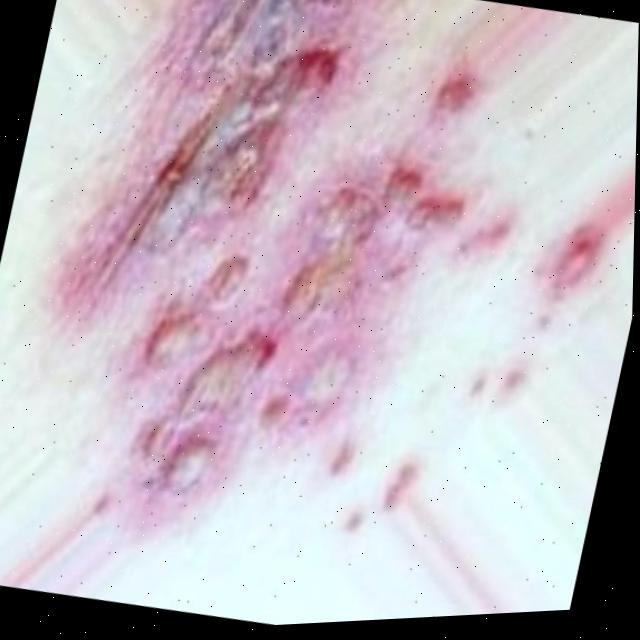Shingles: (25, 0, 514, 576), (546, 218, 606, 299)
